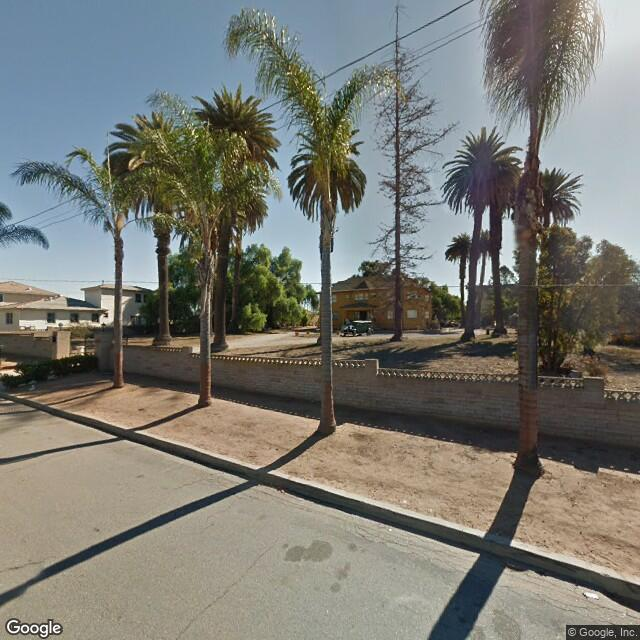litter: (581, 586, 602, 606)
